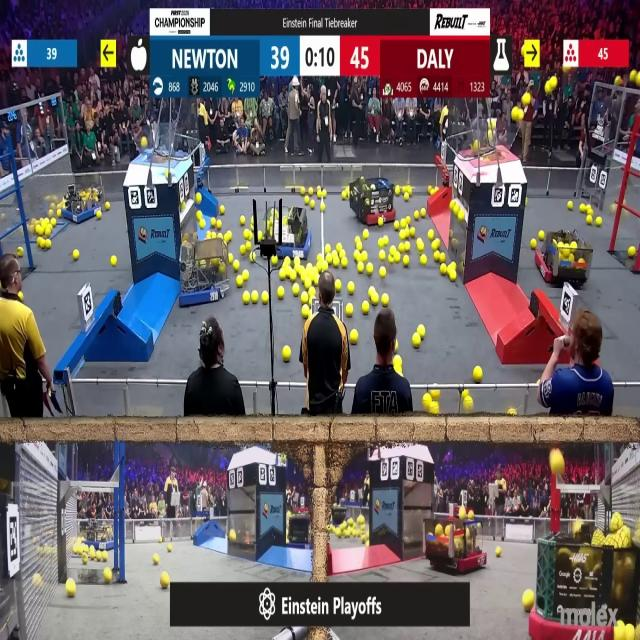ball_airborne: (551, 451, 564, 475), (613, 511, 624, 530), (572, 521, 581, 536), (550, 76, 558, 90), (523, 95, 531, 106), (513, 108, 520, 120), (630, 70, 637, 82), (544, 82, 550, 95), (616, 76, 624, 85), (141, 138, 148, 148), (472, 141, 478, 151), (491, 118, 497, 128), (488, 131, 493, 140)
ball_ground: (524, 592, 534, 612), (66, 580, 76, 598), (626, 624, 635, 640), (472, 365, 481, 380), (162, 572, 171, 587), (463, 396, 472, 411), (283, 346, 291, 362), (104, 568, 112, 583), (394, 356, 402, 370), (413, 336, 421, 349), (430, 404, 438, 417), (423, 394, 431, 407), (381, 294, 389, 306), (346, 305, 354, 317), (350, 332, 358, 344), (418, 325, 426, 337), (302, 307, 310, 319), (262, 291, 270, 303), (244, 291, 251, 304), (370, 293, 378, 304), (628, 247, 636, 258), (291, 284, 299, 295), (362, 302, 369, 314), (348, 282, 355, 294), (251, 290, 258, 302), (365, 265, 372, 277), (334, 256, 341, 268), (458, 210, 465, 222), (234, 262, 241, 273), (441, 265, 448, 276), (402, 254, 408, 266), (278, 287, 284, 299), (316, 263, 324, 272), (380, 268, 387, 278), (420, 254, 427, 264), (450, 272, 457, 282), (587, 215, 594, 225), (237, 277, 244, 287), (433, 252, 440, 262), (380, 250, 387, 260), (399, 242, 406, 252), (431, 390, 438, 400), (360, 251, 367, 261), (302, 292, 309, 302), (587, 206, 594, 216), (73, 249, 79, 260), (110, 255, 116, 266), (336, 281, 342, 292), (418, 240, 424, 251), (342, 257, 348, 268), (290, 271, 296, 282), (313, 276, 319, 287), (231, 531, 237, 542), (91, 549, 97, 560), (451, 201, 457, 212), (506, 410, 514, 418), (224, 233, 231, 242), (431, 241, 438, 250), (44, 240, 51, 249), (284, 256, 291, 265), (101, 553, 108, 562), (354, 251, 361, 260), (272, 255, 278, 265), (152, 554, 158, 564), (596, 216, 602, 226), (531, 240, 537, 250), (538, 232, 544, 242), (441, 252, 447, 262), (411, 229, 417, 239), (356, 240, 362, 250), (325, 254, 331, 264), (448, 264, 454, 274), (36, 224, 42, 234), (388, 254, 395, 262), (307, 288, 314, 296), (316, 254, 323, 262), (358, 264, 363, 275), (362, 231, 368, 240), (243, 272, 249, 281), (240, 216, 246, 225), (280, 271, 286, 280), (394, 220, 400, 229), (579, 204, 585, 213), (97, 211, 103, 220), (17, 291, 23, 300), (244, 231, 250, 240), (421, 208, 427, 217), (200, 219, 206, 228), (227, 253, 233, 262), (38, 239, 44, 248), (390, 246, 396, 255), (306, 280, 312, 289), (293, 257, 299, 266), (399, 219, 405, 228), (496, 548, 501, 558), (195, 192, 200, 202), (415, 210, 420, 220), (428, 232, 434, 240), (394, 254, 400, 262), (399, 232, 405, 240), (379, 218, 385, 226), (337, 243, 343, 251), (405, 241, 411, 249), (322, 264, 328, 272), (383, 238, 389, 246), (246, 242, 252, 250), (310, 201, 316, 209), (219, 266, 225, 274), (407, 216, 413, 224), (567, 202, 572, 211), (241, 246, 246, 255), (105, 202, 110, 211), (428, 185, 433, 194), (257, 232, 262, 241), (82, 556, 87, 565), (395, 186, 400, 195), (216, 220, 221, 228), (198, 212, 203, 220), (403, 192, 408, 200), (320, 204, 325, 212), (341, 250, 346, 258), (368, 287, 373, 295), (394, 343, 398, 353), (321, 190, 326, 198), (217, 233, 222, 241), (309, 187, 314, 195), (17, 249, 22, 257), (220, 206, 224, 215), (250, 253, 254, 262), (328, 242, 332, 251), (212, 233, 217, 240), (168, 542, 172, 550), (212, 218, 216, 226), (306, 198, 310, 206), (48, 210, 52, 218), (160, 536, 165, 542), (343, 194, 347, 201), (58, 210, 62, 217), (51, 218, 55, 225)
goal: (126, 128, 187, 160), (469, 125, 521, 161)
robot_blue: (179, 242, 231, 308), (259, 205, 313, 260), (62, 181, 101, 224), (285, 514, 309, 546), (85, 523, 114, 549)
robot_red: (535, 527, 614, 638), (537, 229, 591, 288), (444, 513, 488, 573), (349, 177, 396, 226)
